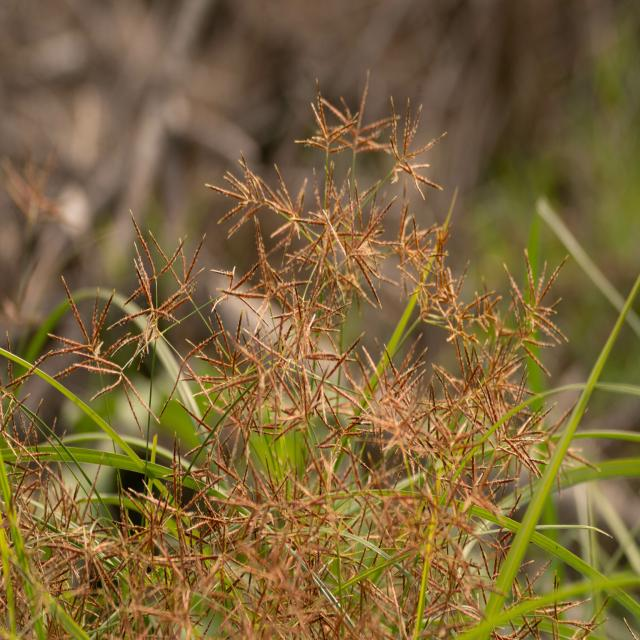cyperus: (0, 74, 565, 640), (204, 76, 596, 498)
